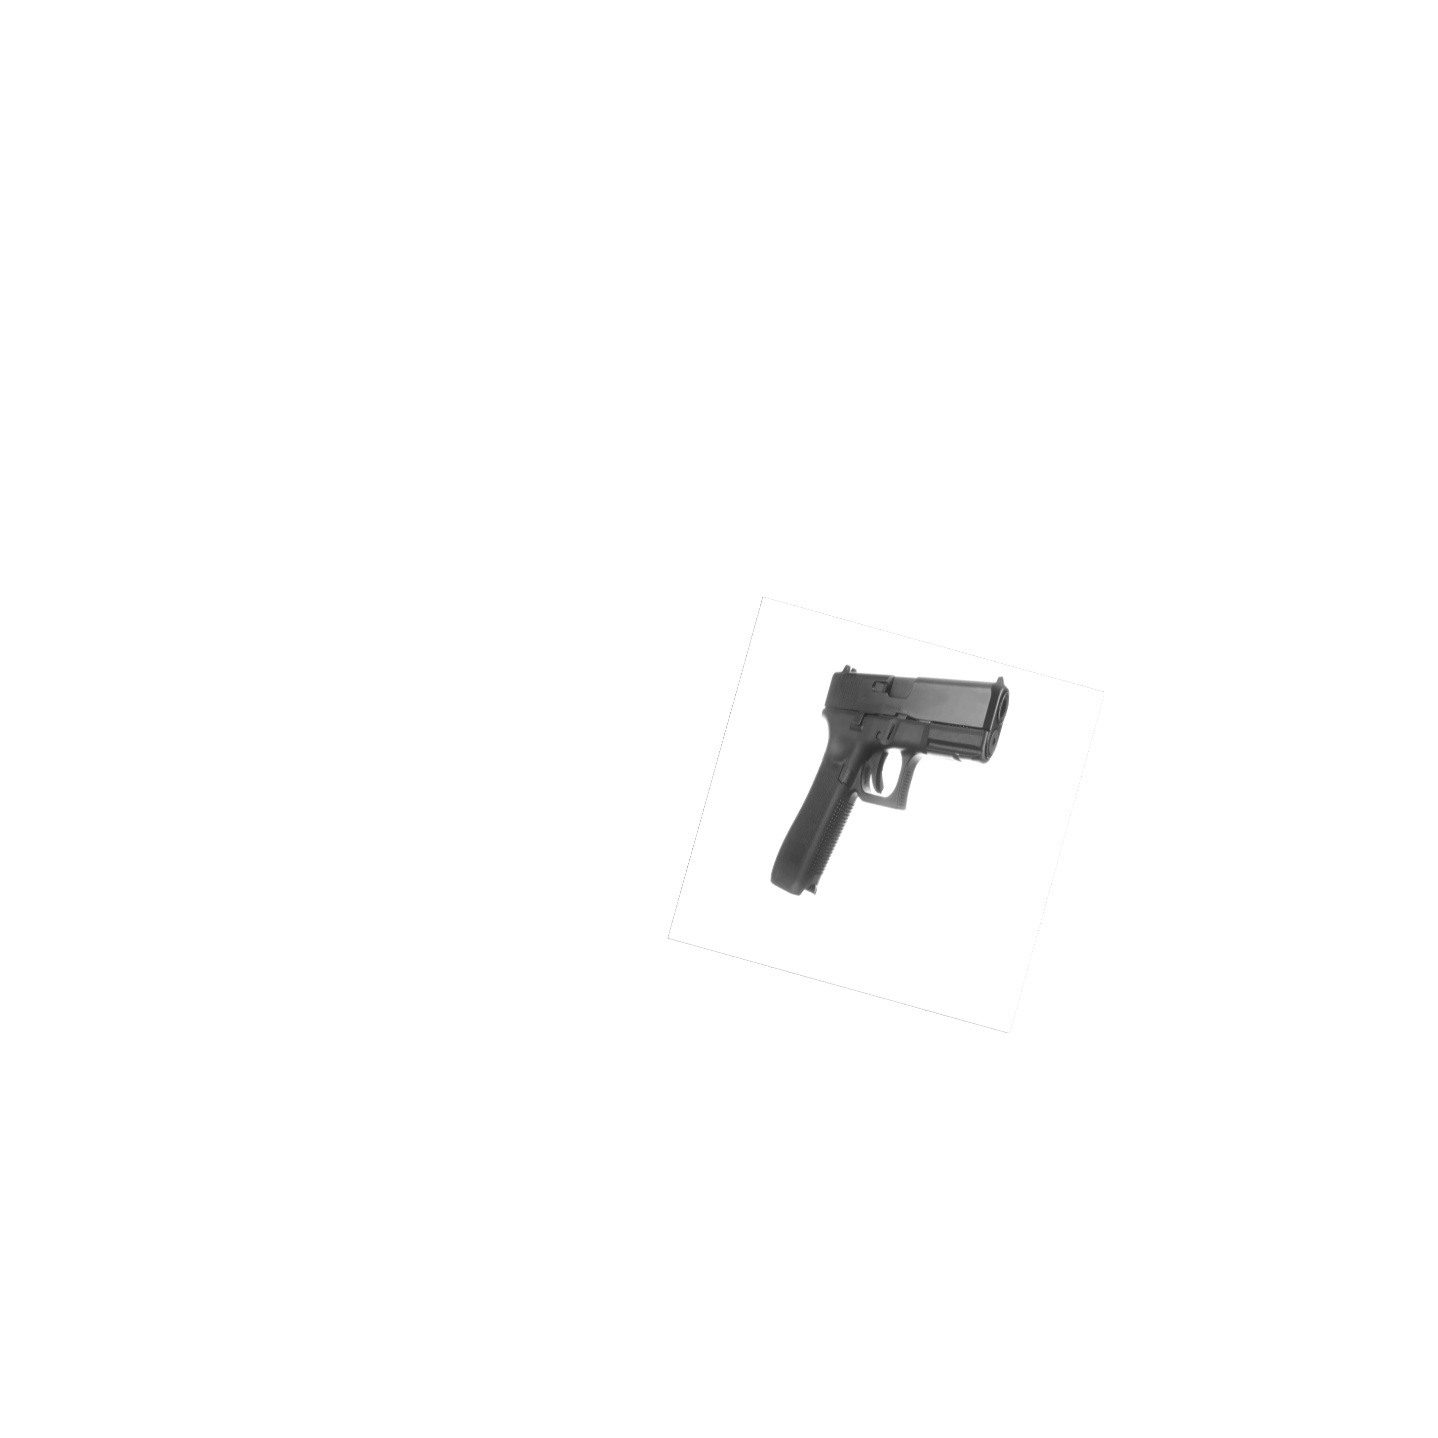gun: (762, 660, 1019, 899)
